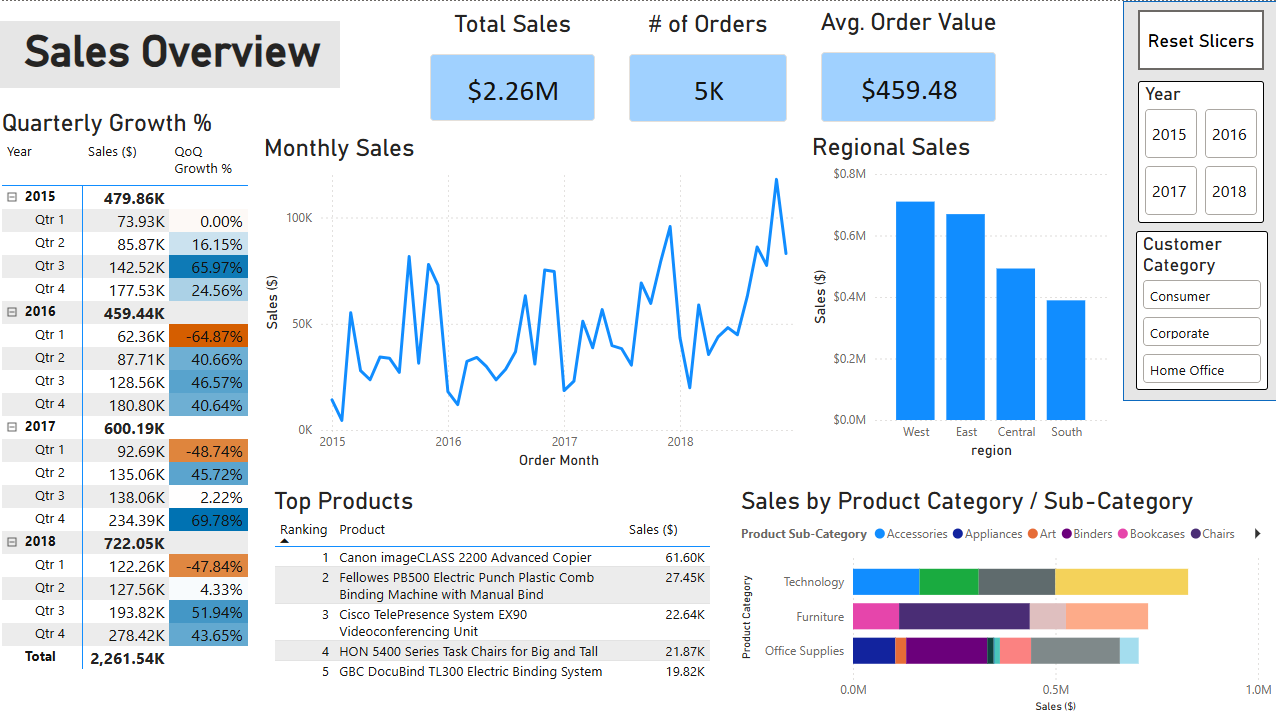

The page's visual inventory and layout, read from the dashboard file:
{"tool":"powerbi","page":{"name":"Sales","canvas":[1280,720],"ordinal":0},"visuals":[{"type":"shape","box":[1126,0,154,400],"z":0},{"type":"advancedSlicerVisual","title":"Year","fields":{"Values":["public orders_enriched.Order Year"]},"box":[1141,79.6,126,142.4],"z":1000,"group":"g3"},{"type":"tableEx","title":"Top Products","fields":{"Values":["_Measures.Product Rank","public orders_enriched.product_name","_Measures.Total_Sales"]},"box":[272,486,447,223],"z":1000},{"type":"cardVisual","title":"Total Sales","fields":{"Data":["_Measures.Total_Sales"]},"box":[416,8.7,199.4,127.8],"z":2000,"group":"g6"},{"type":"lineChart","title":"Monthly Sales","fields":{"Y":["_Measures.Total_Sales"],"Category":["public orders_enriched.Order Month"]},"box":[262,133,545,339],"z":2000},{"type":"pivotTable","title":"Quarterly Growth %","fields":{"Rows":["public orders_enriched.order_date.Variation.Date Hierarchy.Year","public orders_enriched.order_date.Variation.Date Hierarchy.Quarter"],"Values":["_Measures.Total_Sales","_Measures.QoQ Growth %"]},"box":[0,108,263,583],"z":3000},{"type":"textbox","box":[0,20,343,67],"z":4000},{"type":"group","id":"g1","title":"Group 1","box":[416,7,600,131],"z":5000},{"type":"actionButton","box":[1141,9,126,59.9],"z":5000,"group":"g2"},{"type":"group","id":"g2","title":"Group 4","box":[1141,9,126,213],"z":6000,"group":"g5"},{"type":"advancedSlicerVisual","title":"Customer Category","fields":{"Values":["public customers.segment"]},"box":[1139,230,132,159],"z":6000,"group":"g4"},{"type":"cardVisual","title":"# of Orders","fields":{"Data":["_Measures.Total Orders"]},"box":[615,8.7,192,129],"z":7000,"group":"g6"},{"type":"barChart","title":"Sales by Product Category / Sub-Category","fields":{"Category":["public orders_enriched.category"],"Series":["public orders_enriched.sub_category"],"Y":["_Measures.Total_Sales"]},"box":[739,486,541,230],"z":7000},{"type":"cardVisual","title":"Avg. Order Value","fields":{"Data":["_Measures.Avg Order Value"]},"box":[807,7,209,131],"z":8000,"group":"g6"},{"type":"group","id":"g3","title":"Group 3","box":[1141,79.6,126,142.4],"z":8000,"group":"g2"},{"type":"columnChart","title":"Regional Sales","fields":{"Category":["public orders_enriched.region"],"Y":["_Measures.Total_Sales"]},"box":[810,132,305,330],"z":8000},{"type":"group","id":"g4","title":"Group 3","box":[1139,230,132,159],"z":8000,"group":"g5"},{"type":"group","id":"g5","title":"Group 5","box":[1139,9,132,380],"z":8001},{"type":"group","id":"g6","title":"Group 2","box":[416,7,600,131],"z":11002,"group":"g1"}]}

Visuals, with their boxes in screenshot pixels (x1, y1, x2, y2), scaled from the page's 1280x720 canvas onto the 1276x721 screenshot:
shape: pyautogui.locateOnScreen(1122, 0, 1275, 401)
"Year" advancedSlicerVisual: pyautogui.locateOnScreen(1137, 80, 1263, 222)
"Top Products" tableEx: pyautogui.locateOnScreen(271, 487, 717, 710)
"Total Sales" cardVisual: pyautogui.locateOnScreen(415, 9, 613, 137)
"Monthly Sales" lineChart: pyautogui.locateOnScreen(261, 133, 804, 473)
"Quarterly Growth %" pivotTable: pyautogui.locateOnScreen(0, 108, 262, 692)
textbox: pyautogui.locateOnScreen(0, 20, 342, 87)
"Group 1" group: pyautogui.locateOnScreen(415, 7, 1013, 138)
actionButton: pyautogui.locateOnScreen(1137, 9, 1263, 69)
"Group 4" group: pyautogui.locateOnScreen(1137, 9, 1263, 222)
"Customer Category" advancedSlicerVisual: pyautogui.locateOnScreen(1135, 230, 1267, 390)
"# of Orders" cardVisual: pyautogui.locateOnScreen(613, 9, 804, 138)
"Sales by Product Category / Sub-Category" barChart: pyautogui.locateOnScreen(737, 487, 1275, 717)
"Avg. Order Value" cardVisual: pyautogui.locateOnScreen(804, 7, 1013, 138)
"Group 3" group: pyautogui.locateOnScreen(1137, 80, 1263, 222)
"Regional Sales" columnChart: pyautogui.locateOnScreen(807, 132, 1112, 463)
"Group 3" group: pyautogui.locateOnScreen(1135, 230, 1267, 390)
"Group 5" group: pyautogui.locateOnScreen(1135, 9, 1267, 390)
"Group 2" group: pyautogui.locateOnScreen(415, 7, 1013, 138)
